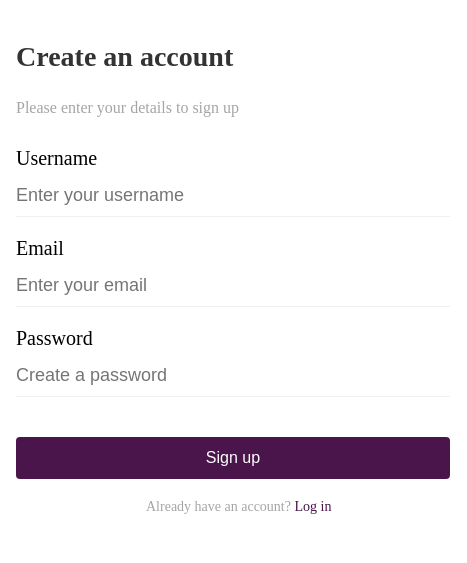
Test case: Register Component › displays error message on registration failure
The width and height of the screenshot is (467, 563).
In the field labelled "Username": (233, 196) [16, 175, 450, 217], type "testuser"
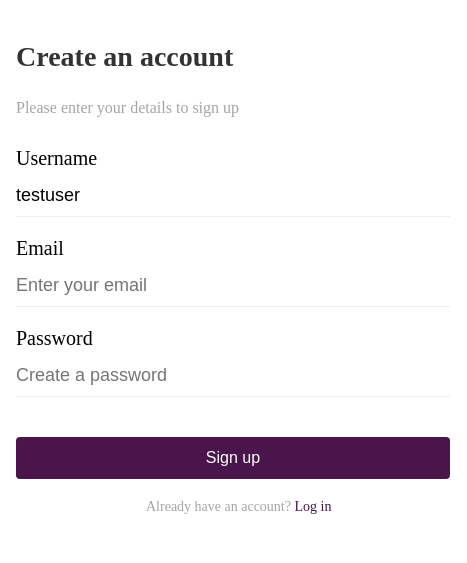
In the field labelled "Email": (233, 286) [16, 265, 450, 307], type "test@example.com"
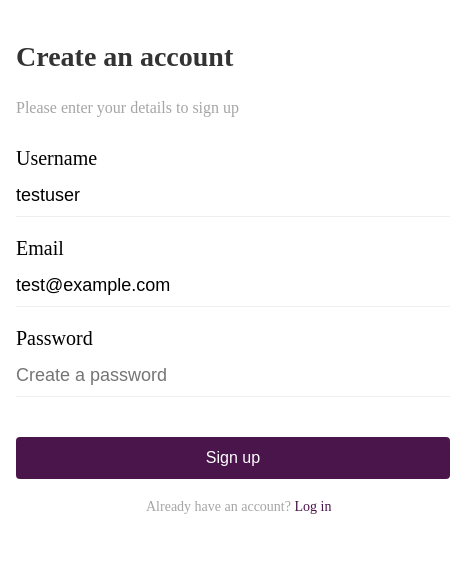
In the password field labelled "Password": (233, 376) [16, 355, 450, 397], type "password123"
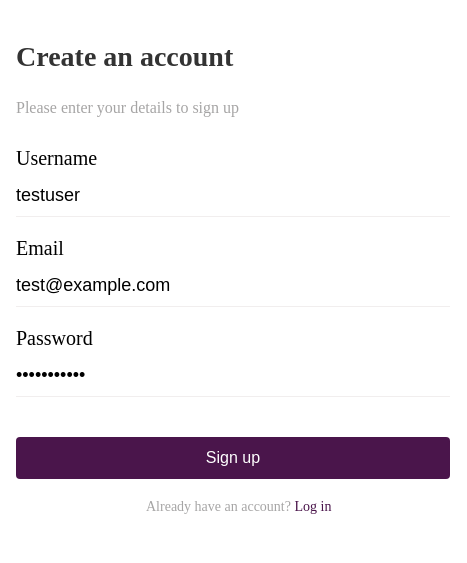
Click the button "Sign up": (233, 458) [16, 437, 450, 479]
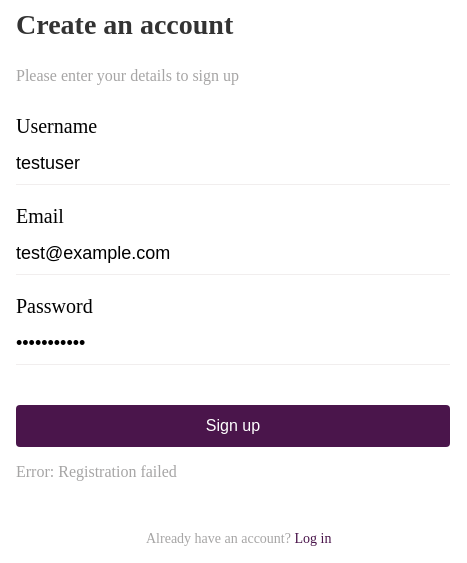
Expected: the text "Error: Registration failed" is shown, [16, 463, 177, 480]
